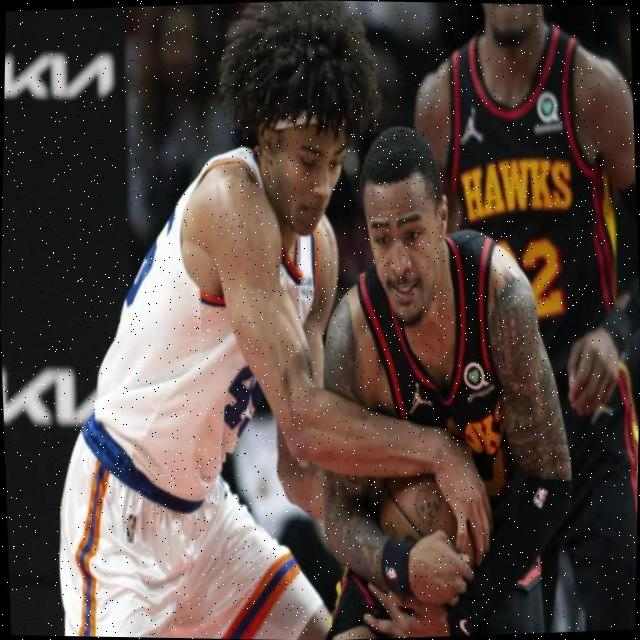ball: (366, 446, 494, 584)
